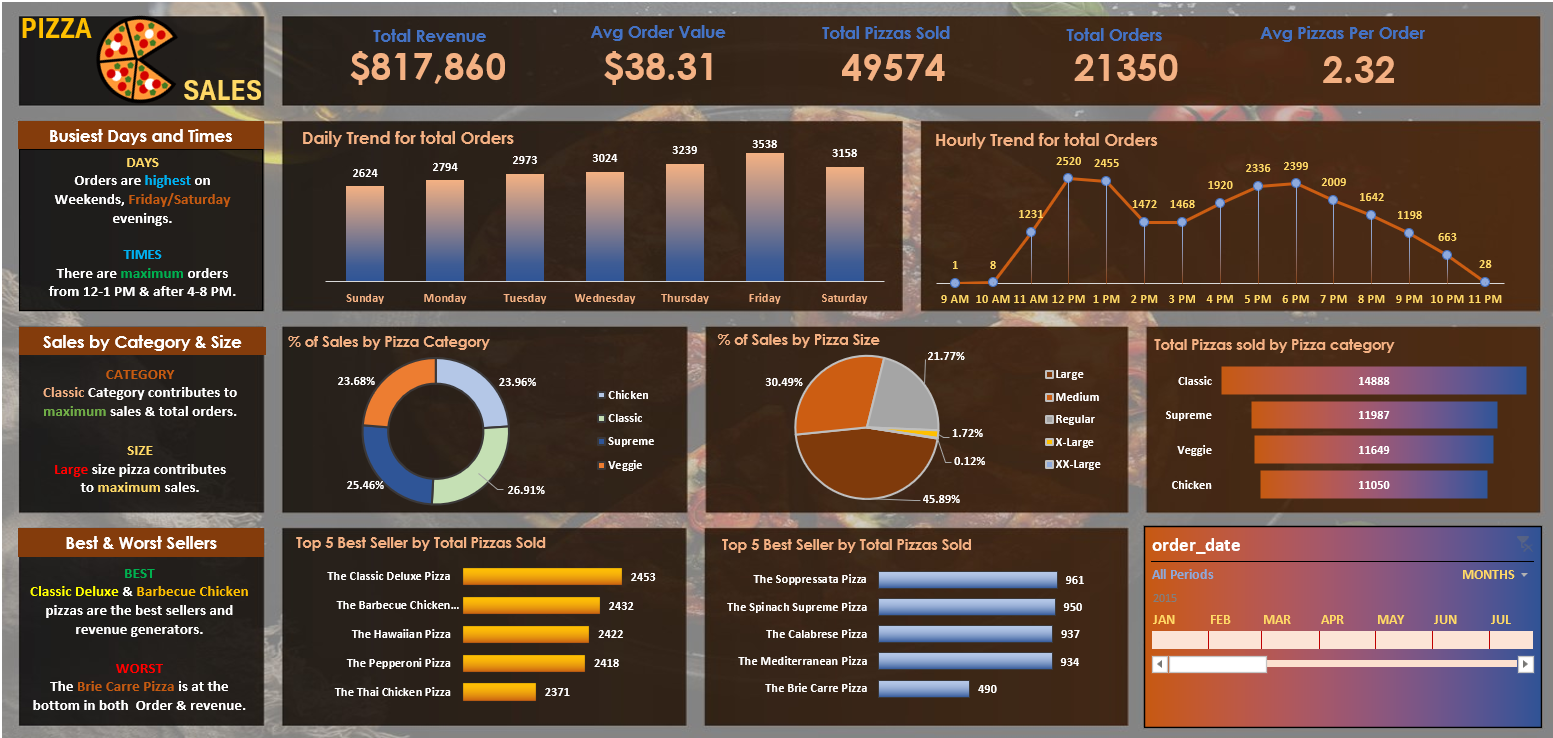

The page's visual inventory and layout, read from the dashboard file:
{"tool":"powerbi","page":{"name":"Home","canvas":[1500,820],"ordinal":0},"visuals":[{"type":"shape","box":[0,81.4,291.4,738.6],"z":0},{"type":"cardVisual","fields":{"Data":["pizza_sales.Total Revenue","pizza_sales.Avg Order Value","pizza_sales.Total Pizzas Sold","pizza_sales.Total Orders","pizza_sales.Avg Pizzas Per Order"]},"box":[291.7,81.7,1208.3,166.7],"z":1000},{"type":"shape","box":[0,0,1500,81.4],"z":2000},{"type":"textbox","box":[518.3,0,393.3,63.3],"z":3000},{"type":"textbox","box":[630,43.3,171.7,50],"z":4000},{"type":"image","box":[495,16.7,60,31.7],"z":5000},{"type":"shape","box":[893.3,238.3,598.3,310],"z":6000},{"type":"areaChart","title":"Monthly Trend for Total Orders","fields":{"Y":["pizza_sales.Total Orders"],"Category":["pizza_sales.Order Month"]},"box":[911.7,260,563.3,271.7],"z":7000},{"type":"shape","box":[278.3,548.3,405,271.7],"z":8000},{"type":"shape","box":[690,548.3,405,271.7],"z":9000},{"type":"shape","box":[1095,548.3,405,271.7],"z":10000},{"type":"donutChart","title":"% of Sales by Pizza Size","fields":{"Category":["pizza_sales.pizza_category"],"Y":["pizza_sales.Total Revenue"]},"box":[291.7,565,380,240],"z":11000},{"type":"donutChart","title":"% of Sales by Pizza Size","fields":{"Y":["pizza_sales.Total Revenue"],"Category":["pizza_sales.pizza_size"]},"box":[703.3,565,380,240],"z":12000},{"type":"funnel","title":"Total Pizza Sold by Pizza Category","fields":{"Category":["pizza_sales.pizza_category"],"Y":["pizza_sales.Total Pizzas Sold"]},"box":[1113.3,565,366.7,240],"z":13000},{"type":"textbox","box":[8.6,218.6,274.3,38.6],"z":14000},{"type":"textbox","box":[8.6,257.1,274.3,254.3],"z":15000},{"type":"textbox","box":[8.6,520,274.3,38.6],"z":16000},{"type":"textbox","box":[8.6,558.6,274.3,254.3],"z":17000},{"type":"slicer","fields":{"Values":["pizza_sales.pizza_category"]},"box":[880,0,300,81.7],"z":18000},{"type":"slicer","fields":{"Values":["pizza_sales.order_date"]},"box":[1200,0,300,81.7],"z":19000},{"type":"shape","box":[298.3,238.3,598.3,298.3],"z":20000},{"type":"columnChart","title":"Daily Trend for Total Order","fields":{"Y":["pizza_sales.Total Orders"],"Category":["pizza_sales.Order Day"]},"box":[316.7,260,563.3,271.7],"z":21000},{"type":"pageNavigator","box":[8.6,104.3,274.3,50],"z":22000},{"type":"pageNavigator","box":[8.6,165.7,274.3,50],"z":23000},{"type":"image","box":[8.6,97.1,41.4,68.6],"z":24000},{"type":"image","box":[8.6,145.7,45.7,91.4],"z":25000},{"type":"image","box":[228.6,110,70,41.4],"z":26000}]}

Visuals, with their boxes on the page's 1500x820 design canvas (x1, y1, x2, y2). These are canvas units, not pixel positions in the 1553x738 screenshot, which may show the page scaled, cropped or inside an application window:
shape: box(0, 81, 291, 820)
cardVisual - pizza_sales.Total Revenue x pizza_sales.Avg Order Value: box(292, 82, 1500, 248)
shape: box(0, 0, 1500, 81)
textbox: box(518, 0, 912, 63)
textbox: box(630, 43, 802, 93)
image: box(495, 17, 555, 48)
shape: box(893, 238, 1492, 548)
"Monthly Trend for Total Orders" areaChart: box(912, 260, 1475, 532)
shape: box(278, 548, 683, 820)
shape: box(690, 548, 1095, 820)
shape: box(1095, 548, 1500, 820)
"% of Sales by Pizza Size" donutChart: box(292, 565, 672, 805)
"% of Sales by Pizza Size" donutChart: box(703, 565, 1083, 805)
"Total Pizza Sold by Pizza Category" funnel: box(1113, 565, 1480, 805)
textbox: box(9, 219, 283, 257)
textbox: box(9, 257, 283, 511)
textbox: box(9, 520, 283, 559)
textbox: box(9, 559, 283, 813)
slicer - pizza_sales.pizza_category: box(880, 0, 1180, 82)
slicer - pizza_sales.order_date: box(1200, 0, 1500, 82)
shape: box(298, 238, 897, 537)
"Daily Trend for Total Order" columnChart: box(317, 260, 880, 532)
pageNavigator: box(9, 104, 283, 154)
pageNavigator: box(9, 166, 283, 216)
image: box(9, 97, 50, 166)
image: box(9, 146, 54, 237)
image: box(229, 110, 299, 151)
